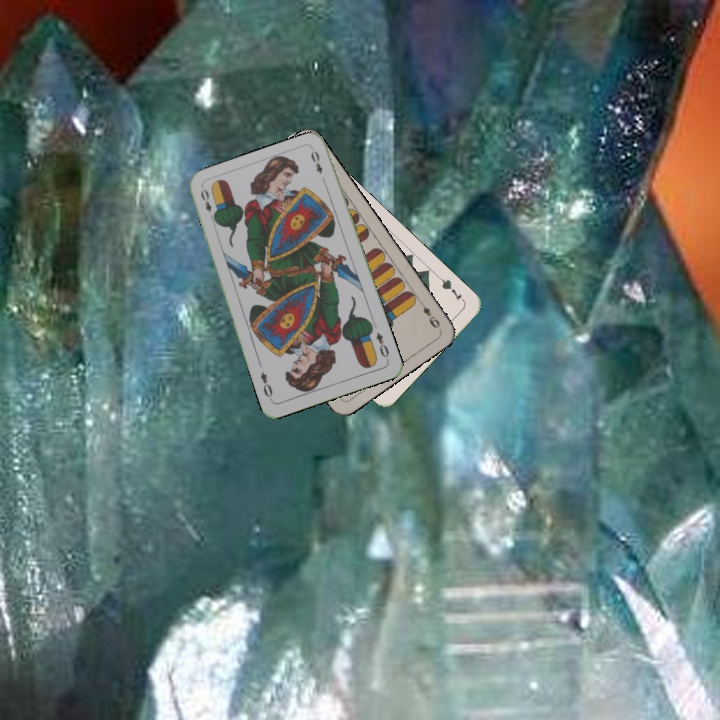E9: (416, 296, 443, 331)
EO: (197, 185, 218, 224), (372, 328, 392, 363)
G7: (434, 273, 467, 305)
